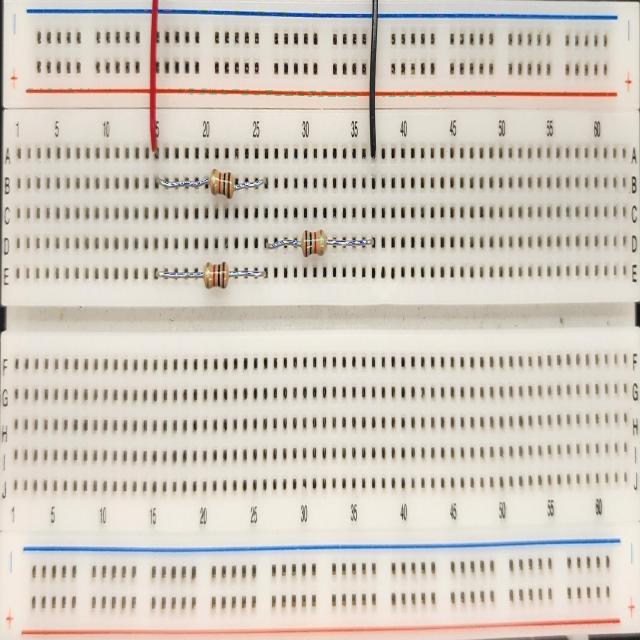Resistor: (156, 167, 269, 201), (265, 227, 375, 257), (155, 261, 268, 288)
